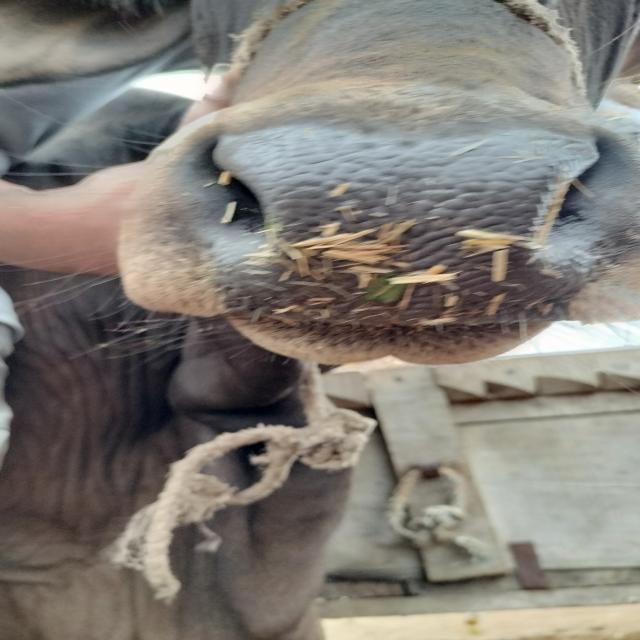muzzles: (170, 100, 640, 350)
